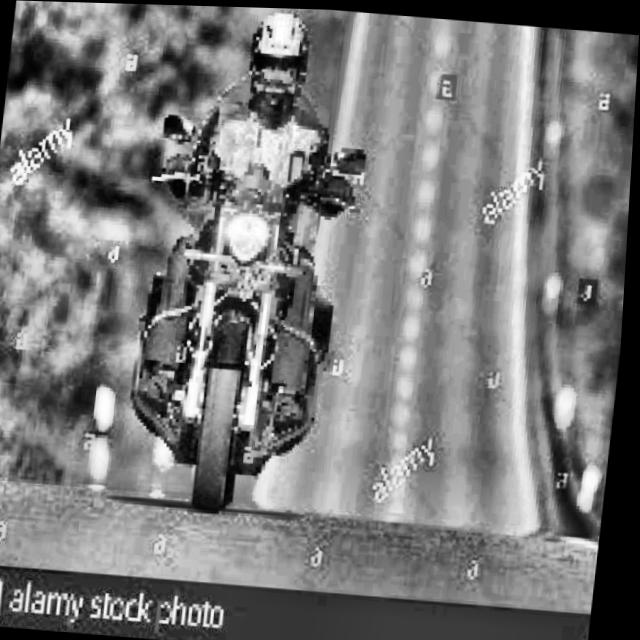motorcycle: (80, 102, 391, 518)
